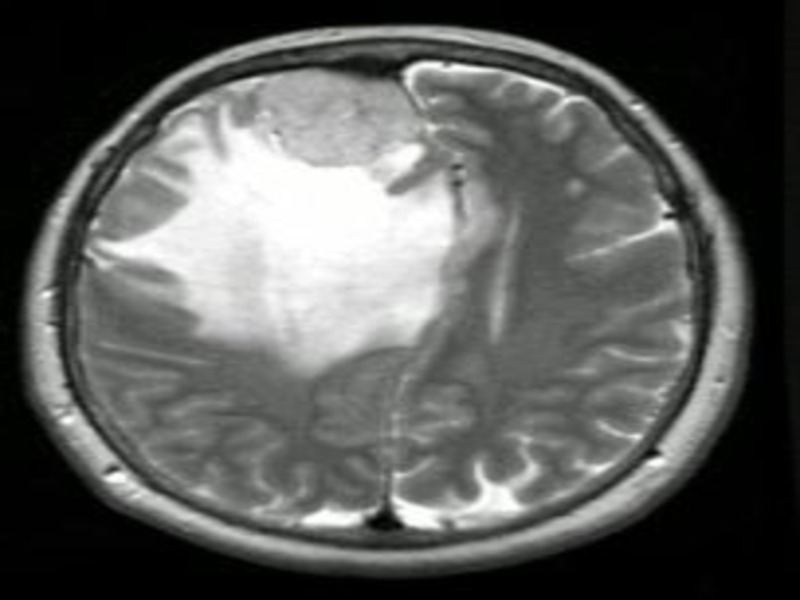tumor: (138, 108, 463, 374)
